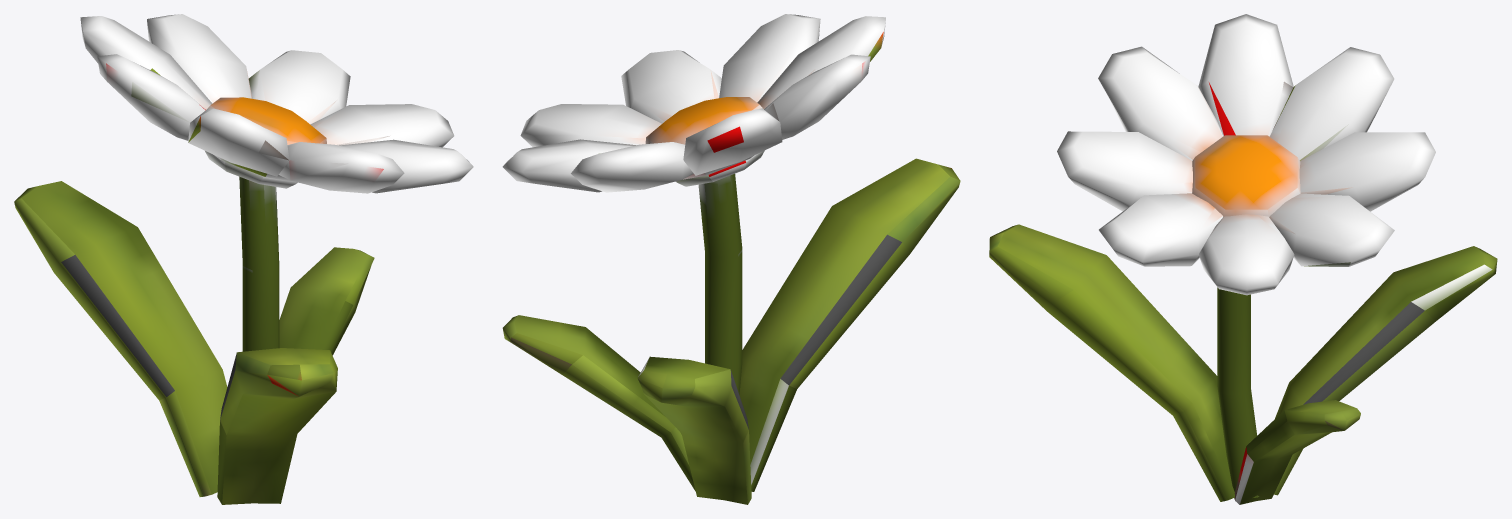
Rendered from flor.fbx.
The picture shows the model from 3 angles, left to right: view 1: azimuth 30°, elevation 25°; view 2: azimuth 150°, elevation 25°; view 3: azimuth 270°, elevation 25°; orthographic projection. The views are drawn at different scales.
Visible parts, largest first — view 1: sm_flor; view 2: sm_flor; view 3: sm_flor.
Part boxes in pixels (x1=…): sm_flor: x1=14, y1=14, x2=473, y2=504; sm_flor: x1=502, y1=14, x2=960, y2=504; sm_flor: x1=989, y1=14, x2=1497, y2=504.
Size of the model in its own units: 37.14 by 48.73 by 53.51.
1 material, 1 textured.
